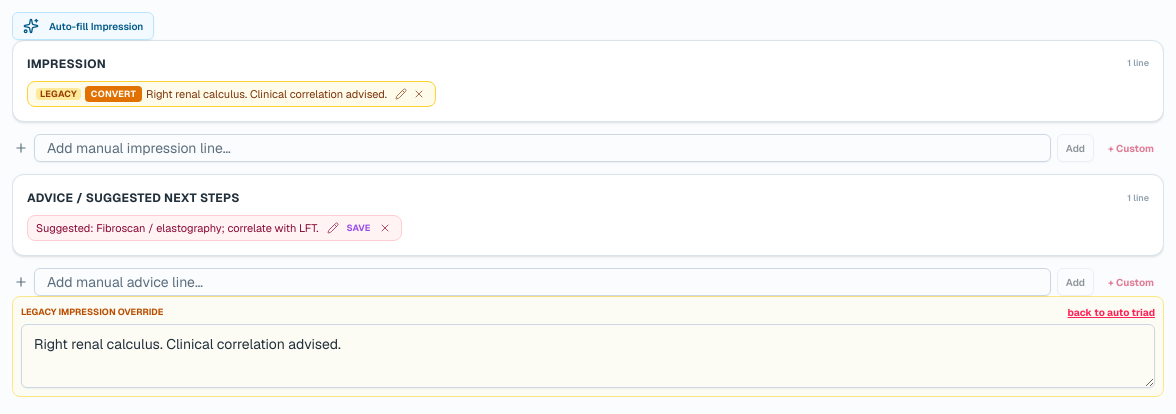
Scenario: one click, no interrupt › replaces a typed impression, with no dialog in between
Expected: the text box showing "Right renal calculus. Clinical correlation advised." is shown, [21,324,1155,388]
What coordinates should you click on to do the following:
click the button "Auto-fill Impression"
I would click on:
 (83, 26)
Its box is [12,12,154,40].
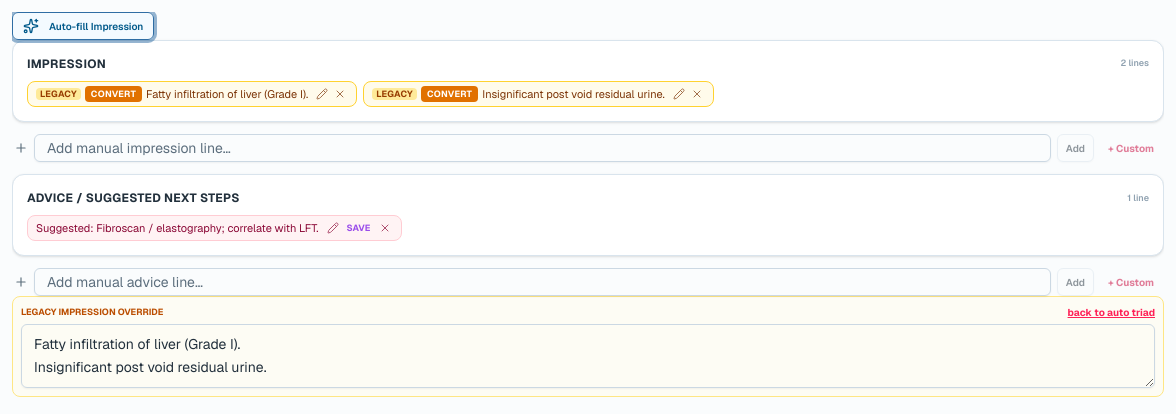
Result: the text showing "Right renal calculus. Clinical correlation advised." is gone
